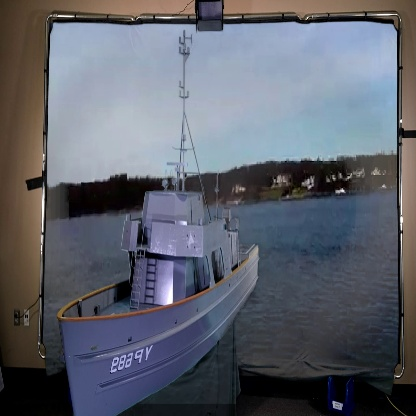YP689: (56, 33, 259, 416)
